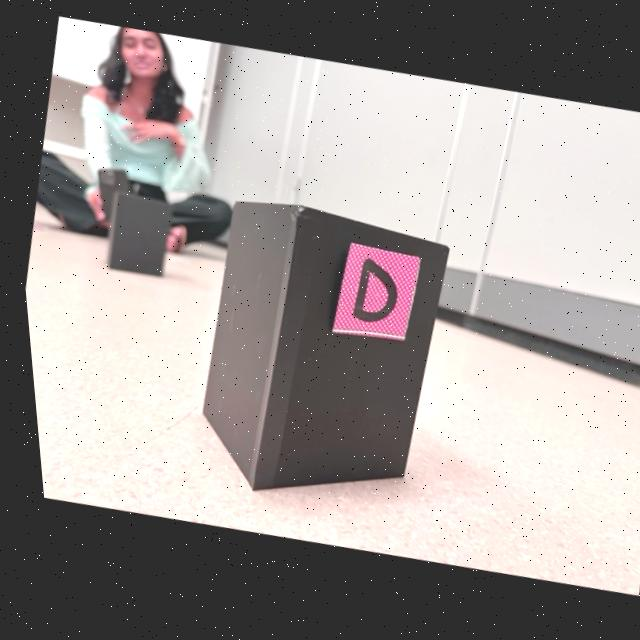D: (346, 261, 391, 324)
